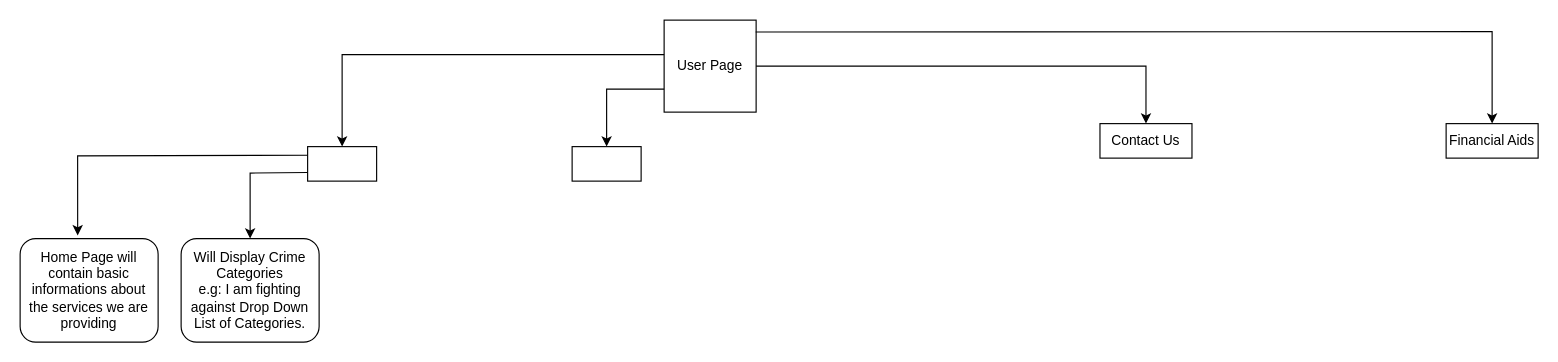
This 1558x362 diagram has some shape labels left out. The centre of each missing label's shape, as x and y in pixels:
"About Us" belongs at point 606,163.
"Home" belongs at point 341,163.
